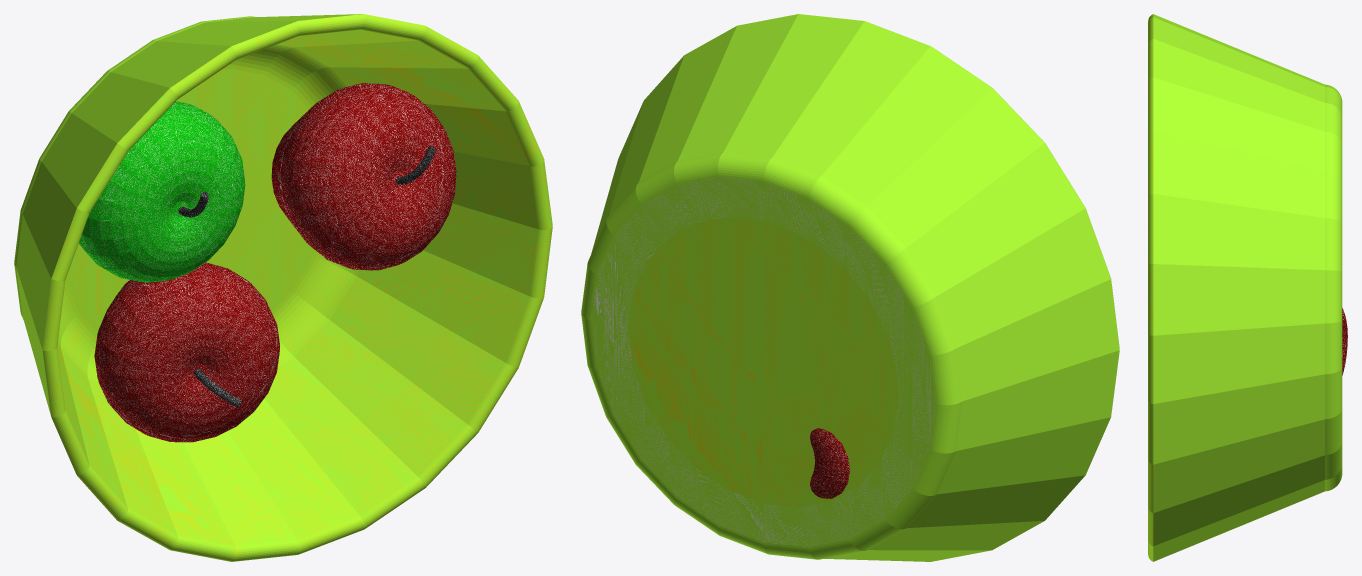
3 views of the same model, side by side, from view 1: azimuth 30°, elevation 25°; view 2: azimuth 150°, elevation 25°; view 3: azimuth 270°, elevation 25° (orthographic). The views are drawn at different scales.
Visible parts, largest first — view 1: bowl; view 2: bowl; view 3: bowl.
Part boxes in pixels (x1,y1,x2,y2): bowl: (14, 14, 552, 561); bowl: (581, 14, 1119, 561); bowl: (1148, 14, 1347, 561).
Size of the model in its own units: 17.02 by 17.02 by 6.18.
